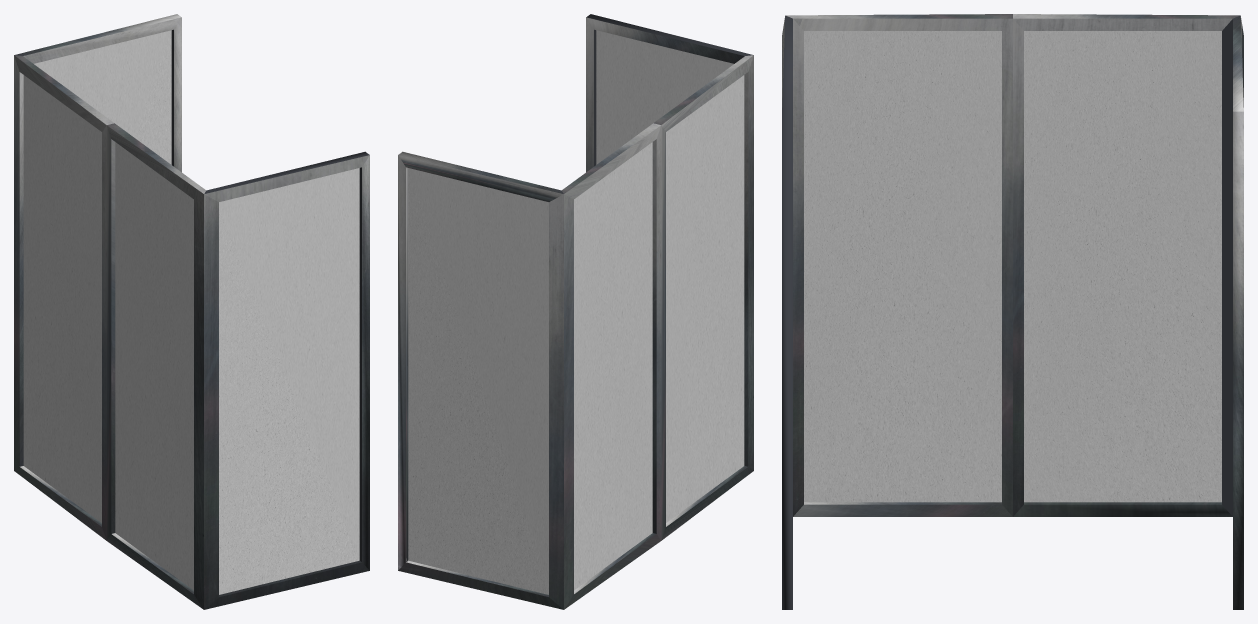
File: Octanorm.obj
The picture shows the model from 3 angles, left to right: view 1: azimuth 30°, elevation 25°; view 2: azimuth 150°, elevation 25°; view 3: azimuth 270°, elevation 25°; orthographic projection. The views are drawn at different scales.
Visible parts, largest first — view 1: STAND_Cube; view 2: STAND_Cube; view 3: STAND_Cube.
Boxes of the visible parts, left/top/right/bottom form: STAND_Cube: left=14, top=14, right=369, bottom=609; STAND_Cube: left=398, top=14, right=753, bottom=609; STAND_Cube: left=782, top=14, right=1243, bottom=609.
Bounding box in the file's own units: 1.05 × 2.5 × 2.1.
2 materials, 2 textured.
